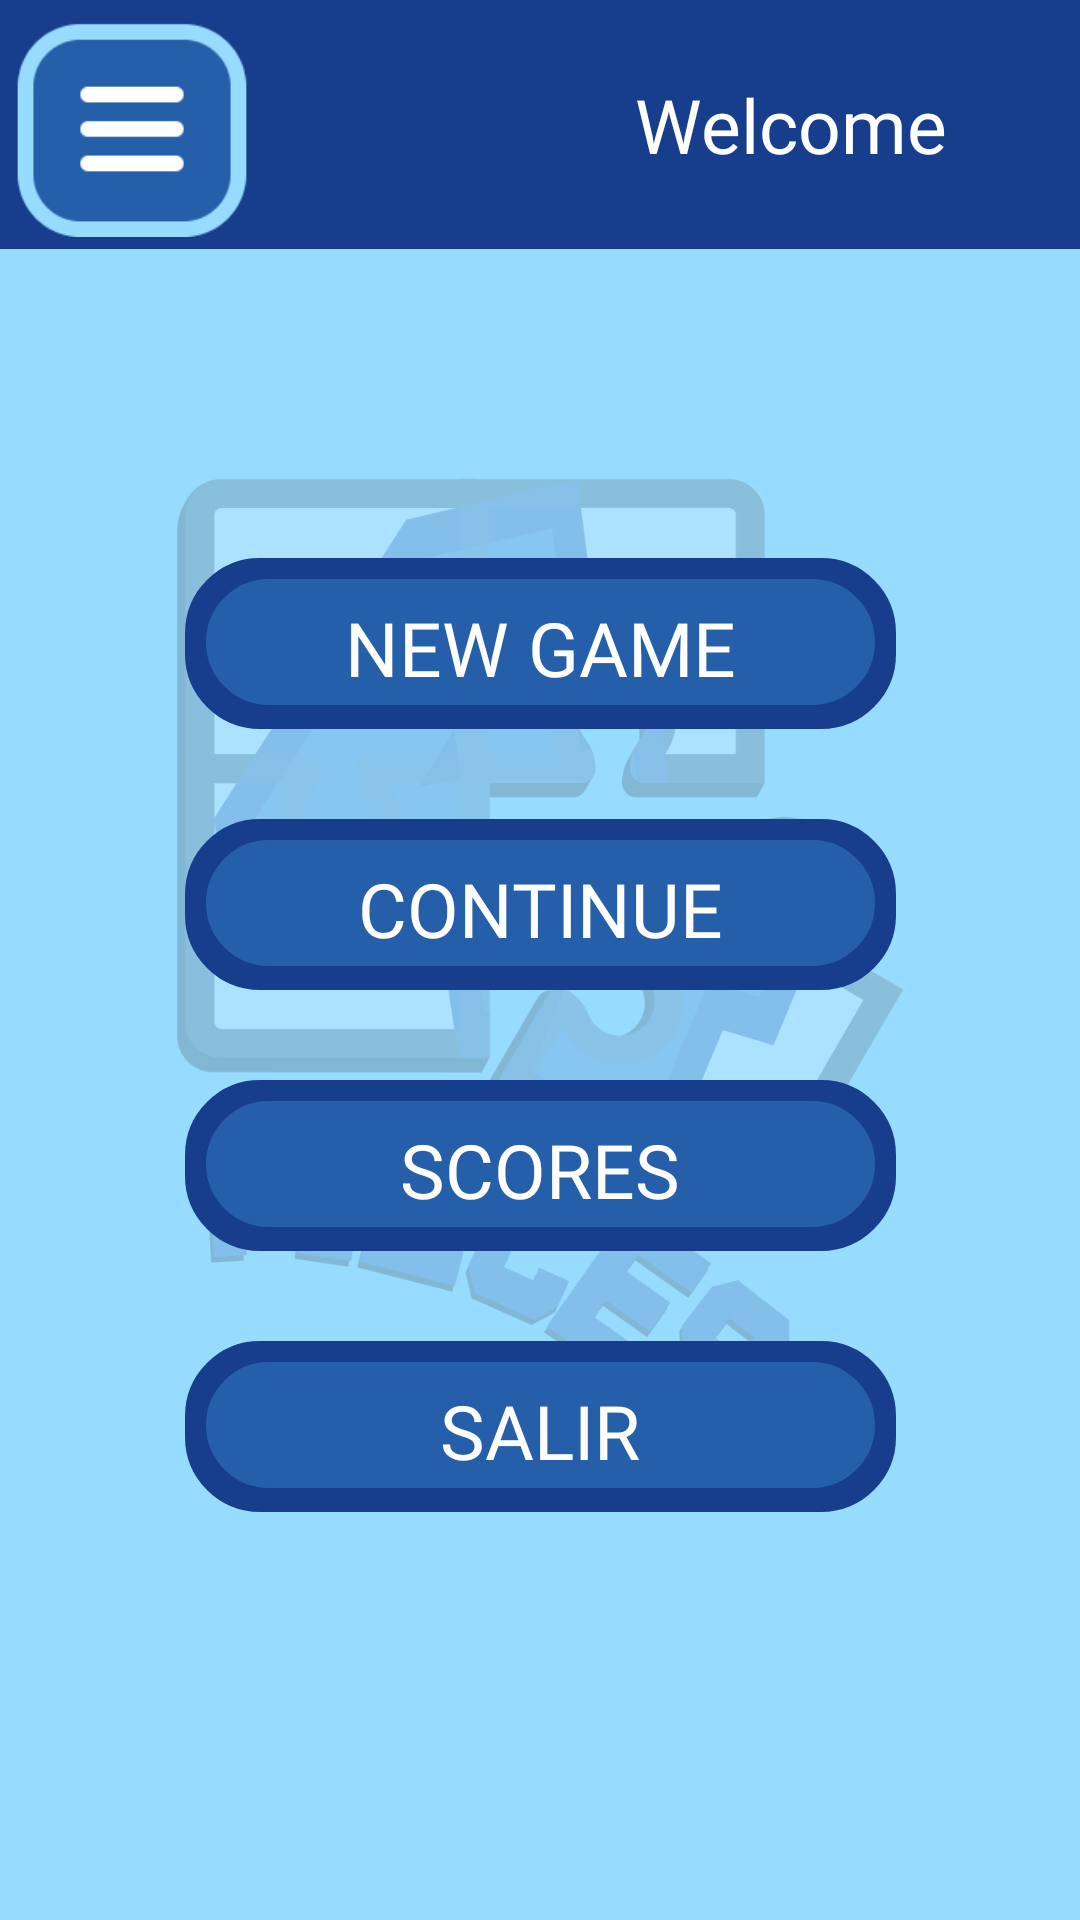

Where icons sit on this 1080w x 1920h app screen, as (x1, y1, x2, y2):
menubtn: (17, 24, 247, 237)
